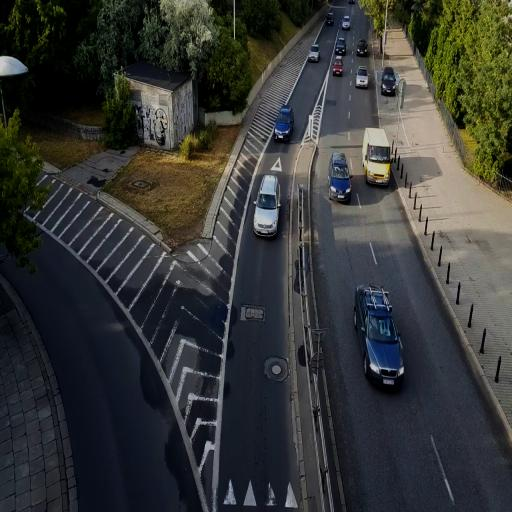vehicle: (354, 284, 406, 389), (355, 284, 405, 390), (252, 173, 281, 240), (362, 127, 392, 187), (362, 127, 392, 186), (328, 150, 352, 202), (274, 106, 293, 141), (380, 68, 398, 96), (355, 67, 369, 89), (308, 41, 321, 62), (335, 36, 347, 56), (333, 58, 343, 76)
